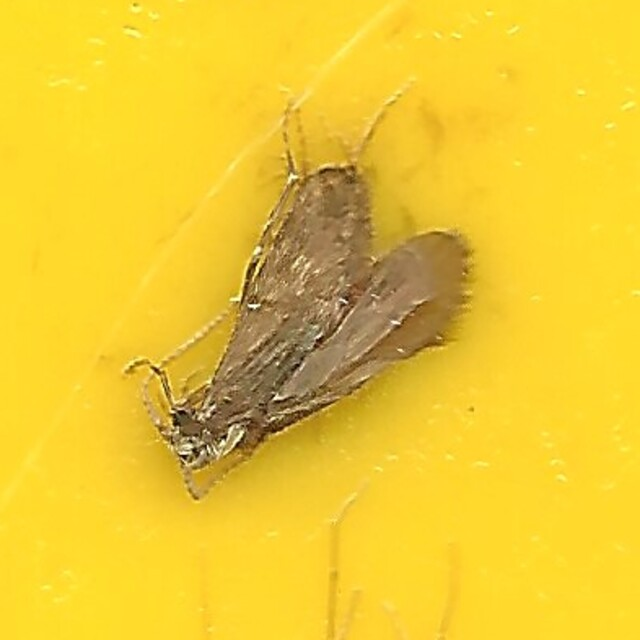Trichoptera: (163, 165, 477, 475)
